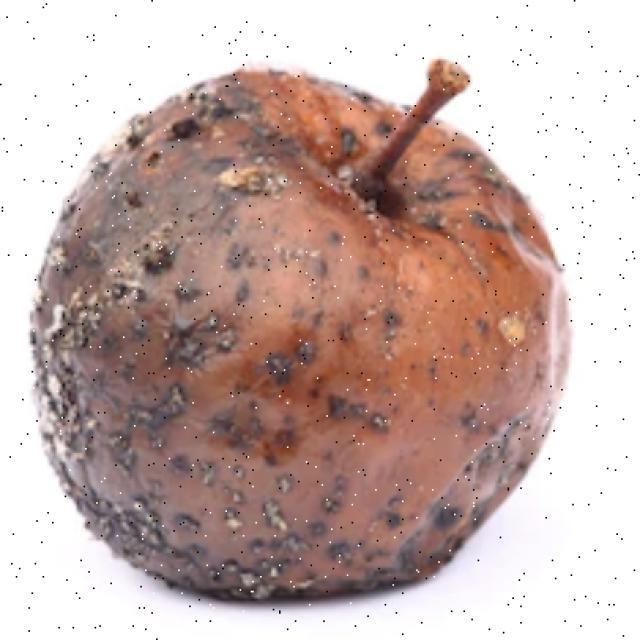Rotten: (50, 80, 568, 585)
